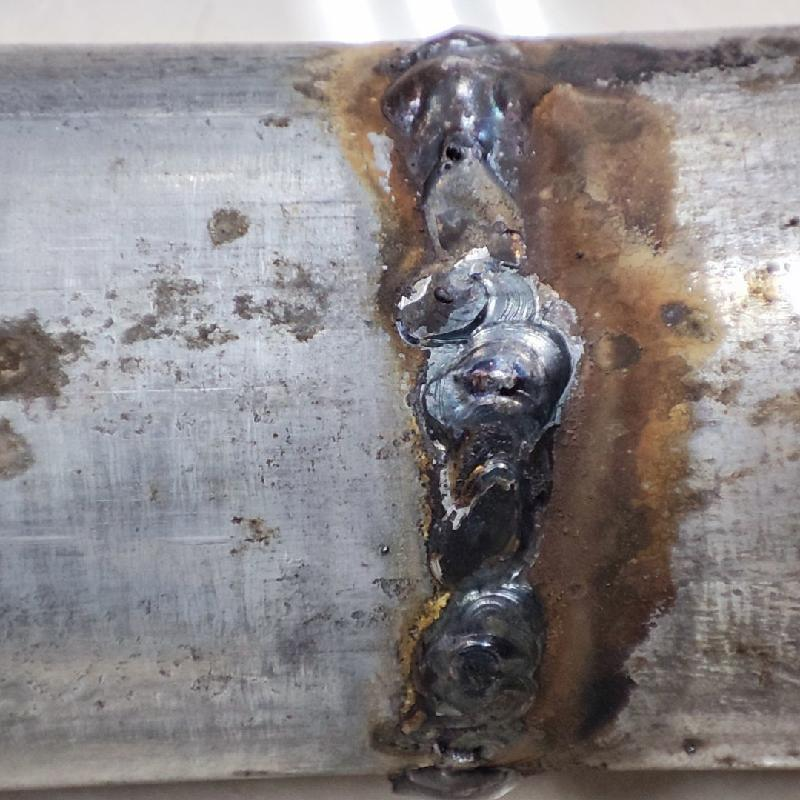Not_fully_soldered: (397, 126, 538, 269), (396, 717, 553, 771)
Surface_pores: (431, 137, 480, 181)
Weld: (388, 25, 524, 143)
wrong_size: (398, 271, 568, 715)
